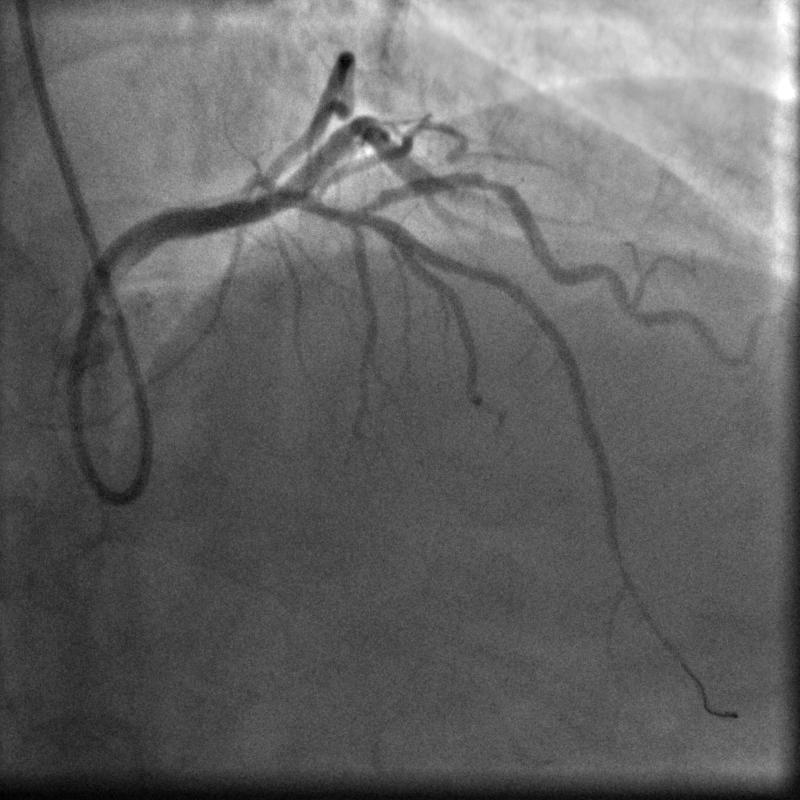Stenosis: (464, 163, 504, 199)
